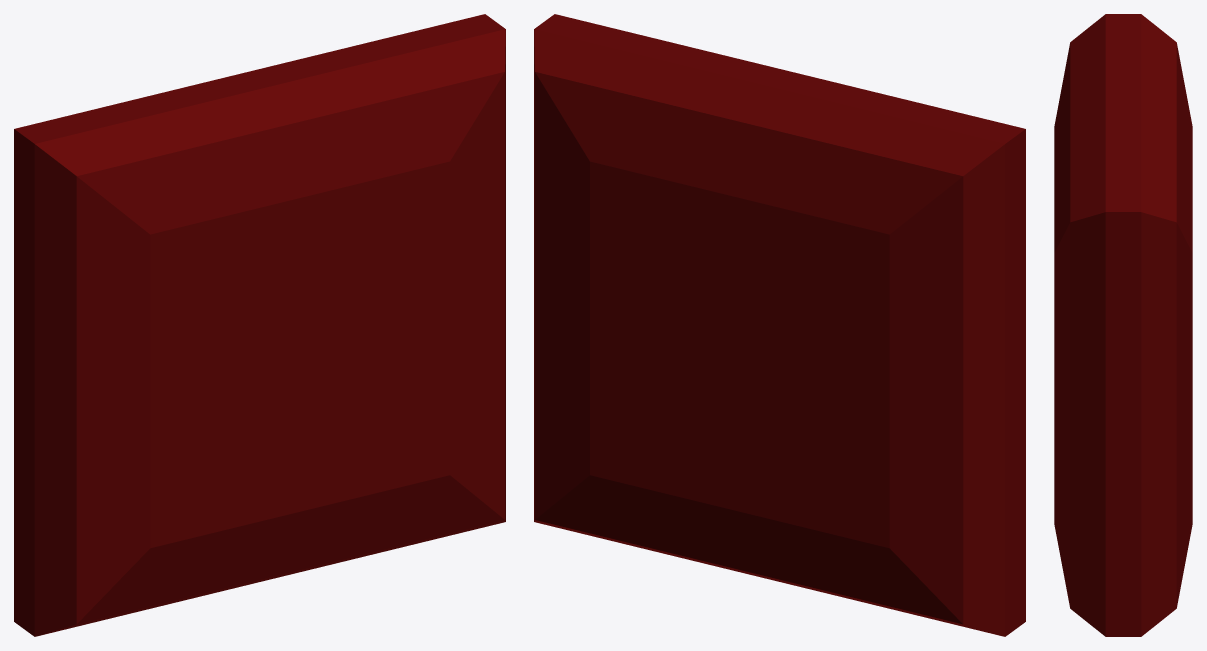
File: Cusion.fbx
3 views of the same model, side by side, from view 1: azimuth 30°, elevation 25°; view 2: azimuth 150°, elevation 25°; view 3: azimuth 270°, elevation 25° (orthographic). The views are drawn at different scales.
Parts seen in each view (by area): view 1: Cusion; view 2: Cusion; view 3: Cusion.
Boxes of the visible parts, left/top/right/bottom form: Cusion: left=14, top=14, right=505, bottom=636; Cusion: left=534, top=14, right=1025, bottom=636; Cusion: left=1054, top=14, right=1192, bottom=636.
Size of the model in its own units: 880 by 880 by 260.
